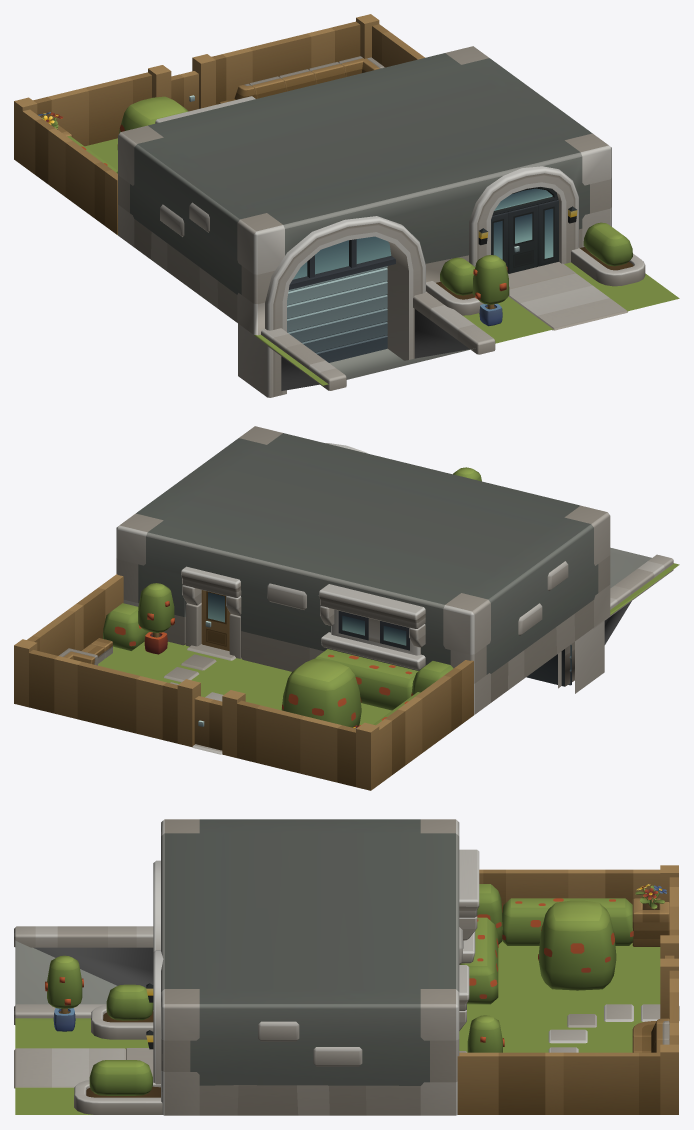
File: garage_and_house_ground_grey.fbx
3 views of the same model, one above another, from view 1: azimuth 30°, elevation 25°; view 2: azimuth 150°, elevation 25°; view 3: azimuth 270°, elevation 25° (orthographic). The views are drawn at different scales.
Parts seen in each view (by area): view 1: garage_and_house_ground_grey, door_garage_garage_and_house, door_front_garage_and_house, door_garden_garage_and_house; view 2: garage_and_house_ground_grey, door_back_garage_and_house, door_garden_garage_and_house; view 3: garage_and_house_ground_grey.
Boxes of the visible parts, x1,y1,x2,y2 form: garage_and_house_ground_grey: (14, 14, 679, 397); door_garage_garage_and_house: (287, 266, 387, 362); door_front_garage_and_house: (508, 205, 537, 273); door_garden_garage_and_house: (171, 71, 198, 111); garage_and_house_ground_grey: (14, 426, 679, 790); door_back_garage_and_house: (201, 590, 230, 651); door_garden_garage_and_house: (194, 696, 222, 750); garage_and_house_ground_grey: (14, 819, 679, 1115).
Size of the model in its own units: 1223 by 533 by 1806.
